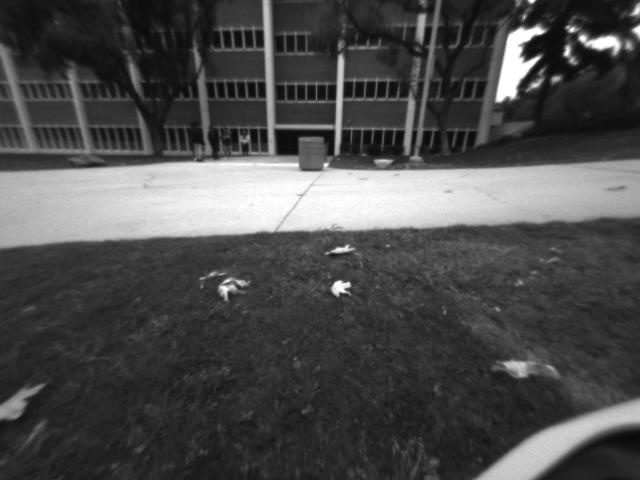trashcan: (301, 135, 324, 171)
